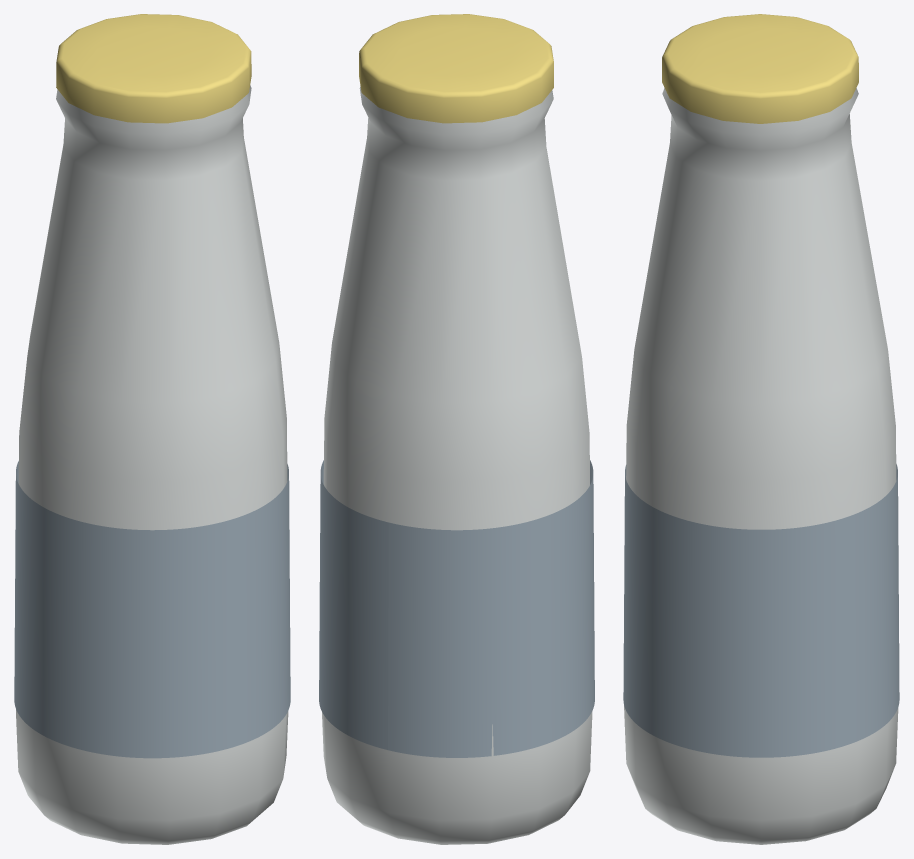
File: v2_milk_dairy_minimal.glb
3 renders of one model, left to right at view 1: azimuth 30°, elevation 25°; view 2: azimuth 150°, elevation 25°; view 3: azimuth 270°, elevation 25°, orthographic.
Visible parts, largest first — view 1: Glass, Label_band, Cap; view 2: Glass, Label_band, Cap; view 3: Glass, Label_band, Cap.
Part boxes in pixels (x1,y1,x2,y2): Glass: (16,85,288,844); Label_band: (14,461,290,758); Cap: (56,14,251,123); Glass: (322,86,592,844); Label_band: (319,460,594,757); Cap: (359,14,553,123); Glass: (624,88,898,844); Label_band: (623,464,899,757); Cap: (662,14,858,123).
Bounding box in the file's own units: 0.0749 × 0.2238 × 0.0749.
